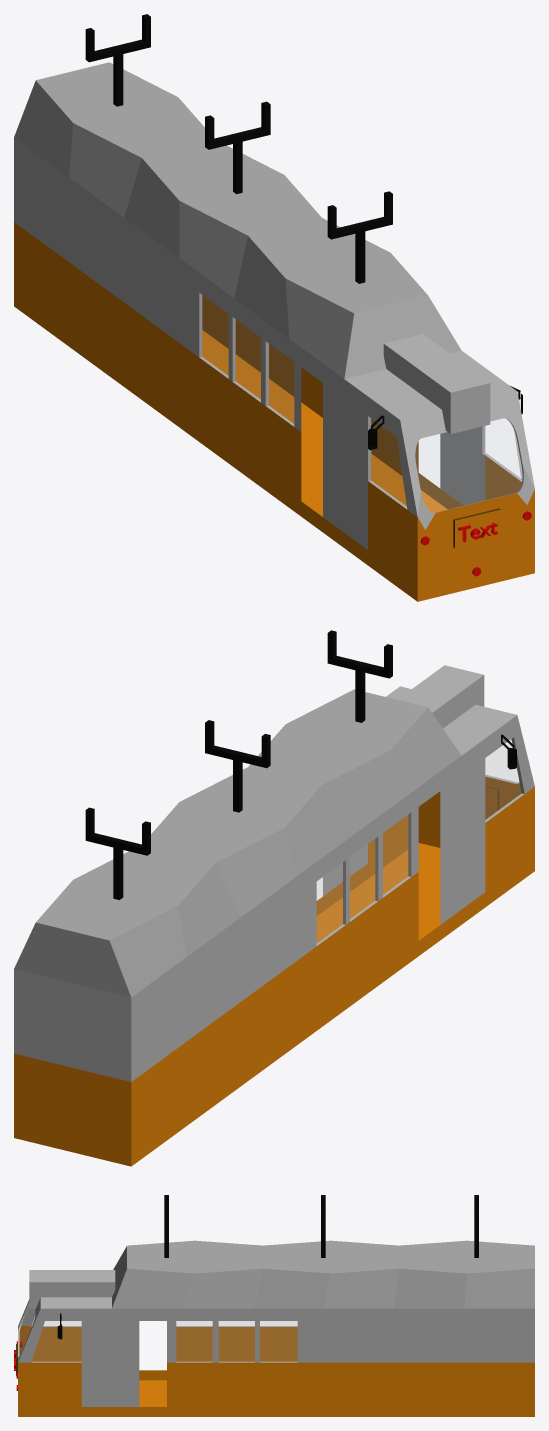
Rendered from tram.gltf.
3 renders of one model, top to bottom at view 1: azimuth 30°, elevation 25°; view 2: azimuth 150°, elevation 25°; view 3: azimuth 270°, elevation 25°, orthographic. The views are drawn at different scales.
Visible parts, largest first — view 1: Cube, Cube.001, 立方体.001, 立方体.004, 立方体.003, 立方体.002, 立方体; view 2: Cube, Cube.001, 立方体.001, 立方体.004, 立方体.003, 立方体.002; view 3: Cube, Cube.001, 立方体.001, 立方体.002, 立方体.003, 立方体.004.
Boxes of the visible parts, box(x1,y1,x2,y2) form: Cube: box(14, 137, 534, 601); Cube.001: box(14, 62, 461, 378); 立方体.001: box(383, 334, 490, 433); 立方体.004: box(85, 14, 150, 106); 立方体.003: box(327, 191, 392, 283); 立方体.002: box(205, 101, 270, 194); 立方体: box(453, 508, 500, 547); Cube: box(14, 686, 534, 1166); Cube.001: box(14, 689, 461, 997); 立方体.001: box(397, 665, 484, 728); 立方体.004: box(85, 807, 150, 899); 立方体.003: box(327, 630, 392, 722); 立方体.002: box(205, 720, 270, 812); Cube: box(18, 1297, 534, 1416); Cube.001: box(112, 1240, 534, 1308); 立方体.001: box(29, 1270, 115, 1308); 立方体.002: box(321, 1195, 325, 1257); 立方体.003: box(164, 1195, 168, 1257); 立方体.004: box(474, 1195, 478, 1257).
Bounding box in the file's own units: 3.96 × 7.49 × 18.25.
